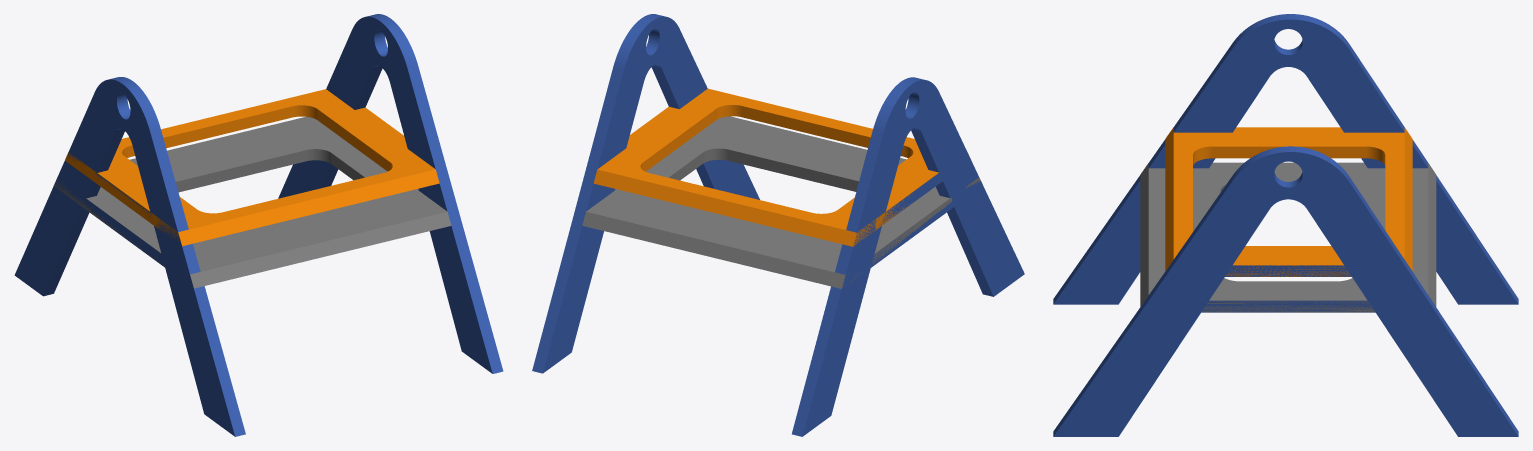
The model's file is R2-A-old.dae.
3 views of the same model, side by side, from view 1: azimuth 30°, elevation 25°; view 2: azimuth 150°, elevation 25°; view 3: azimuth 270°, elevation 25° (orthographic). The views are drawn at different scales.
Visible parts, largest first — view 1: node3, node2, node1, node0; view 2: node2, node3, node1, node0; view 3: node0, node2, node3, node1.
Boxes of the visible parts, <box> form: node3: <box>54,116,451,288</box>; node2: <box>14,77,245,436</box>; node1: <box>65,89,439,246</box>; node0: <box>278,14,503,373</box>; node2: <box>792,77,1024,436</box>; node3: <box>582,116,981,288</box>; node1: <box>593,88,968,246</box>; node0: <box>532,14,759,373</box>; node0: <box>1053,146,1518,436</box>; node2: <box>1053,14,1518,304</box>; node3: <box>1140,162,1436,312</box>; node1: <box>1165,127,1412,276</box>.
Size of the model in its own units: 0.25 by 0.3564 by 0.2409.
